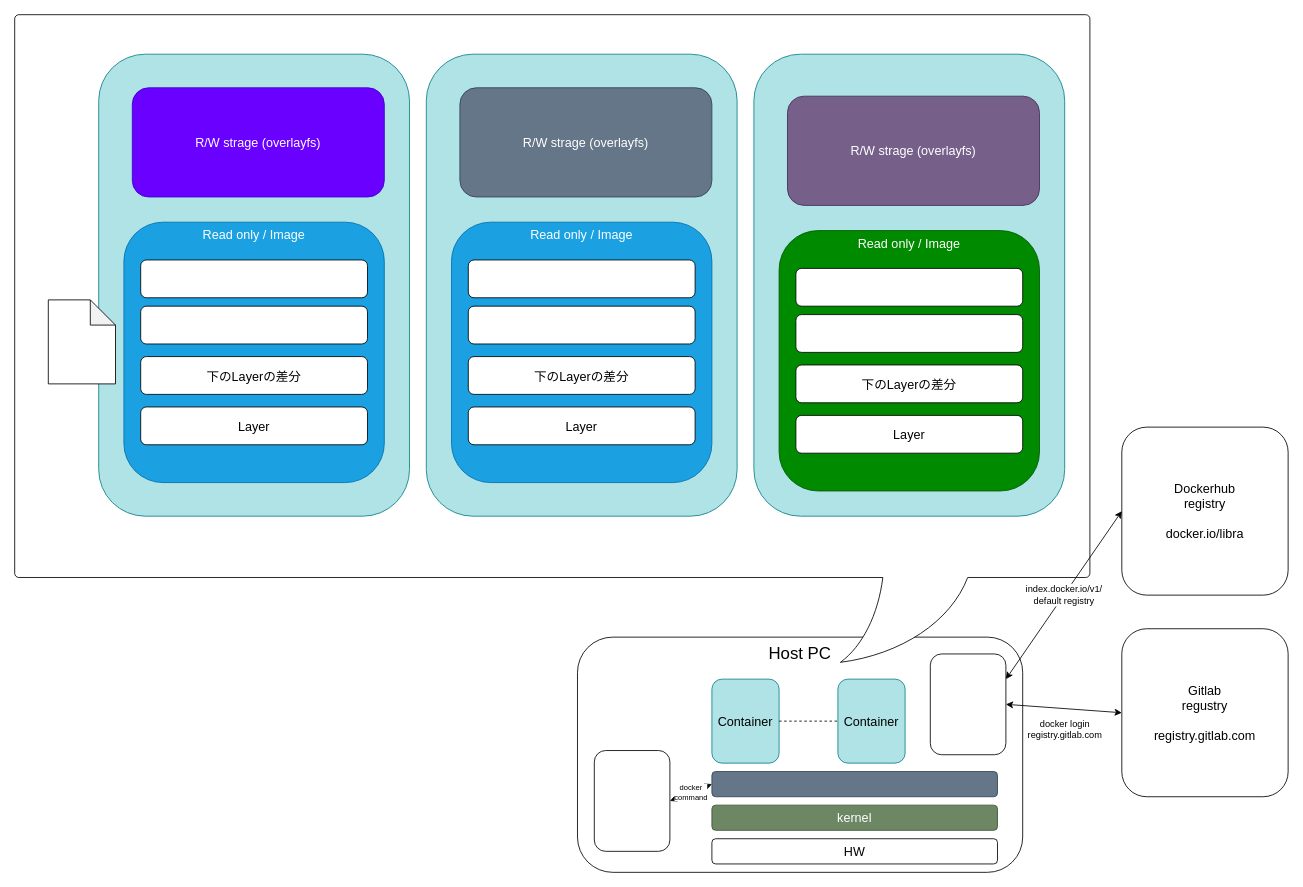
The diagram is 1303 pixels wide and 887 high, and some of its shapes have lost their labels. Each missing label, with the centre of its shape:
Docker Client: point (631, 800)
Docker Engine: point (854, 784)
Layerはhistoryとして保存される: point (81, 341)
local registry: point (967, 704)
